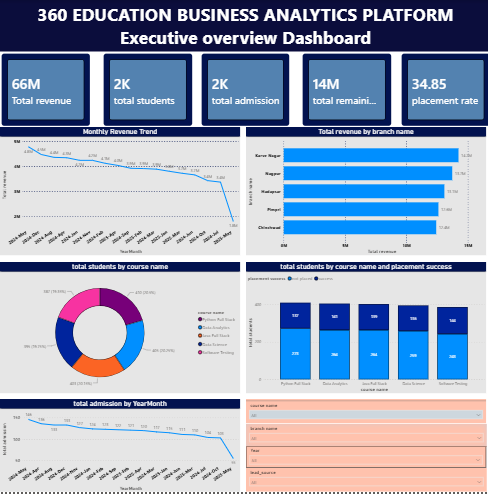

Layout of this report page (visuals, bound fields, positions):
{"tool":"powerbi","page":{"name":"Page 1","canvas":[1400,1500],"ordinal":0},"visuals":[{"type":"textbox","box":[-8,0,1408,144],"z":0},{"type":"cardVisual","fields":{"Data":["Revenue measures.total revenue"]},"box":[32,160,240,144],"z":1000},{"type":"cardVisual","fields":{"Data":["student measures.total students"]},"box":[304,160,256,144],"z":2000},{"type":"cardVisual","fields":{"Data":["student measures.total admission"]},"box":[592,160,240,144],"z":3000},{"type":"cardVisual","fields":{"Data":["placement measures.placement rate"]},"box":[1136,160,240,144],"z":4000},{"type":"cardVisual","fields":{"Data":["Revenue measures.total remaining fees"]},"box":[864,160,240,144],"z":5000},{"type":"lineChart","title":"Monthly Revenue Trend","fields":{"Y":["Revenue measures.total revenue"],"Category":["DateTable.YearMonth"]},"box":[32,336,736,320],"z":6000},{"type":"barChart","fields":{"Y":["Revenue measures.total revenue"],"Category":["branches_dim.branch name"]},"box":[800,336,576,320],"z":7000},{"type":"donutChart","fields":{"Category":["courses_dim.course name"],"Y":["student measures.total students"]},"box":[16,704,752,320],"z":8000},{"type":"columnChart","fields":{"Category":["courses_dim.course name"],"Y":["student measures.total students"],"Series":["placements.placement success"]},"box":[816,704,560,320],"z":9000},{"type":"lineChart","fields":{"Category":["DateTable.YearMonth"],"Y":["student measures.total admission"]},"box":[15.2,1073.2,993.9,378],"z":10000},{"type":"slicer","fields":{"Values":["branches_dim.branch name"]},"box":[1024,1168,368,80],"z":11000},{"type":"slicer","fields":{"Values":["DateTable.Year"]},"box":[1015.2,1262.2,368.9,82.3],"z":12000},{"type":"slicer","fields":{"Values":["courses_dim.course name"]},"box":[1024.4,1073.2,368.9,79.3],"z":13000},{"type":"slicer","fields":{"Values":["leads.lead_source"]},"box":[1009.1,1372,384.1,79.3],"z":14000}]}

Visuals, with their boxes on the page's 1400x1500 design canvas (x1, y1, x2, y2). These are canvas units, not pixel positions in the 488x497 screenshot, which may show the page scaled, cropped or inside an application window:
textbox: box(-8, 0, 1400, 144)
cardVisual - Revenue measures.total revenue: box(32, 160, 272, 304)
cardVisual - student measures.total students: box(304, 160, 560, 304)
cardVisual - student measures.total admission: box(592, 160, 832, 304)
cardVisual - placement measures.placement rate: box(1136, 160, 1376, 304)
cardVisual - Revenue measures.total remaining fees: box(864, 160, 1104, 304)
"Monthly Revenue Trend" lineChart: box(32, 336, 768, 656)
barChart - Revenue measures.total revenue x branches_dim.branch name: box(800, 336, 1376, 656)
donutChart - courses_dim.course name x student measures.total students: box(16, 704, 768, 1024)
columnChart - courses_dim.course name x student measures.total students: box(816, 704, 1376, 1024)
lineChart - DateTable.YearMonth x student measures.total admission: box(15, 1073, 1009, 1451)
slicer - branches_dim.branch name: box(1024, 1168, 1392, 1248)
slicer - DateTable.Year: box(1015, 1262, 1384, 1344)
slicer - courses_dim.course name: box(1024, 1073, 1393, 1152)
slicer - leads.lead_source: box(1009, 1372, 1393, 1451)
